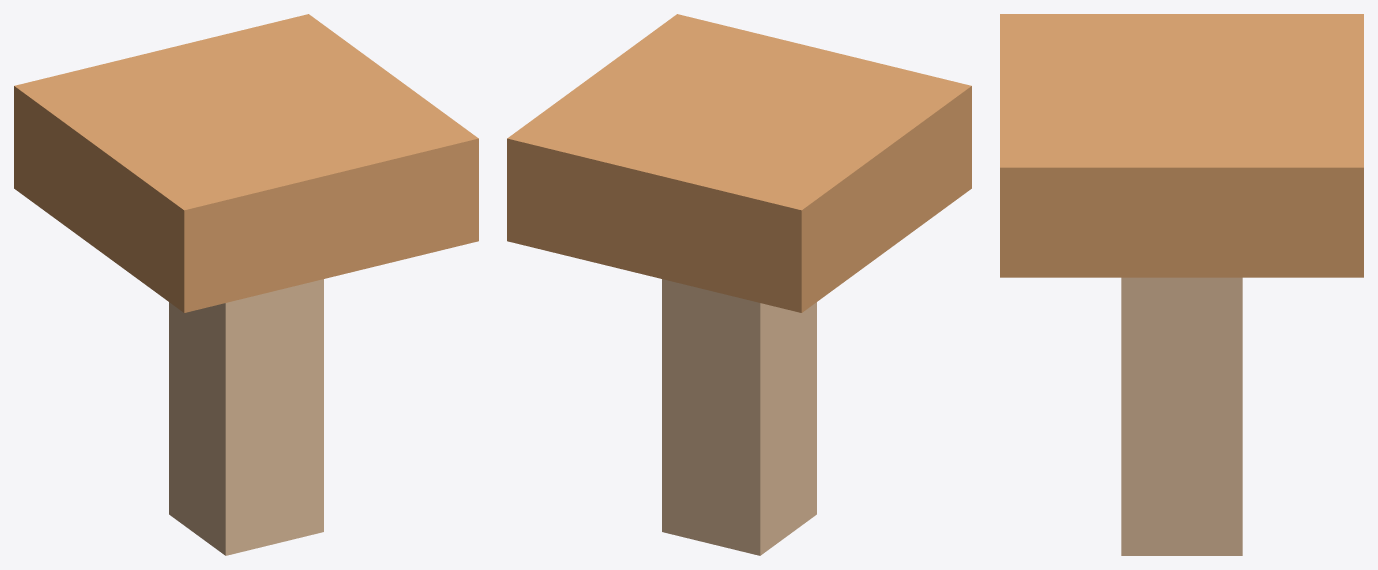
The model's file is tile-37.obj.
3 views of the same model, side by side, from view 1: azimuth 30°, elevation 25°; view 2: azimuth 150°, elevation 25°; view 3: azimuth 270°, elevation 25° (orthographic). The views are drawn at different scales.
Bounding box in the file's own units: 0.3 × 0.4 × 0.3.
Materials: 1 (1 with a texture image).
